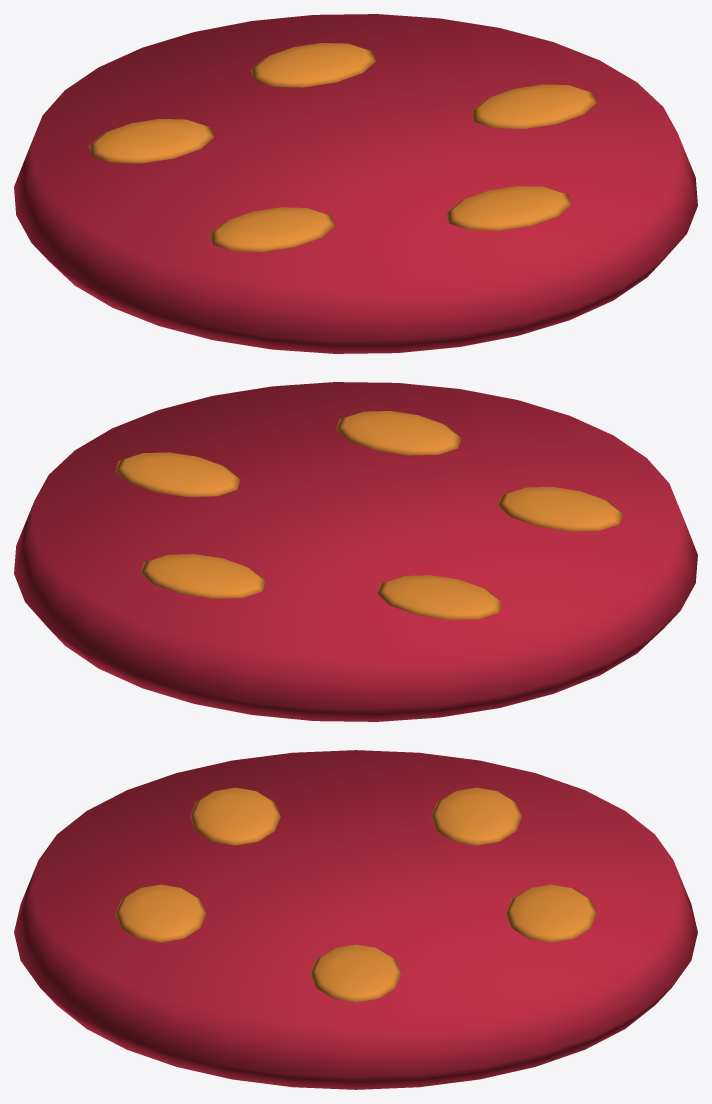
Rendered from tomato-slice.glb.
3 renders of one model, top to bottom at view 1: azimuth 30°, elevation 25°; view 2: azimuth 150°, elevation 25°; view 3: azimuth 270°, elevation 25°, orthographic.
Parts seen in each view (by area): view 1: edible_tomato, edible_seed_lobe.003, edible_seed_lobe.004, edible_seed_lobe.001, edible_seed_lobe, edible_seed_lobe.002; view 2: edible_tomato, edible_seed_lobe.002, edible_seed_lobe.001, edible_seed_lobe.004, edible_seed_lobe, edible_seed_lobe.003; view 3: edible_tomato, edible_seed_lobe, edible_seed_lobe.002, edible_seed_lobe.003, edible_seed_lobe.001, edible_seed_lobe.004.
Boxes of the visible parts, left/top/right/bottom form: edible_tomato: left=14, top=14, right=697, bottom=353; edible_seed_lobe.003: left=209, top=207, right=334, bottom=251; edible_seed_lobe.004: left=446, top=186, right=571, bottom=230; edible_seed_lobe.001: left=250, top=43, right=375, bottom=87; edible_seed_lobe: left=471, top=84, right=596, bottom=128; edible_seed_lobe.002: left=88, top=119, right=214, bottom=163; edible_tomato: left=14, top=382, right=697, bottom=721; edible_seed_lobe.002: left=377, top=575, right=502, bottom=619; edible_seed_lobe.001: left=140, top=554, right=265, bottom=598; edible_seed_lobe.004: left=336, top=411, right=461, bottom=455; edible_seed_lobe: left=115, top=452, right=240, bottom=496; edible_seed_lobe.003: left=497, top=487, right=623, bottom=531; edible_tomato: left=14, top=750, right=697, bottom=1089; edible_seed_lobe: left=310, top=944, right=401, bottom=1002; edible_seed_lobe.002: left=431, top=787, right=521, bottom=845; edible_seed_lobe.003: left=190, top=787, right=280, bottom=845; edible_seed_lobe.001: left=505, top=884, right=596, bottom=942; edible_seed_lobe.004: left=115, top=884, right=206, bottom=942.
Bounding box in the file's own units: 0.15 × 0.018 × 0.15.
